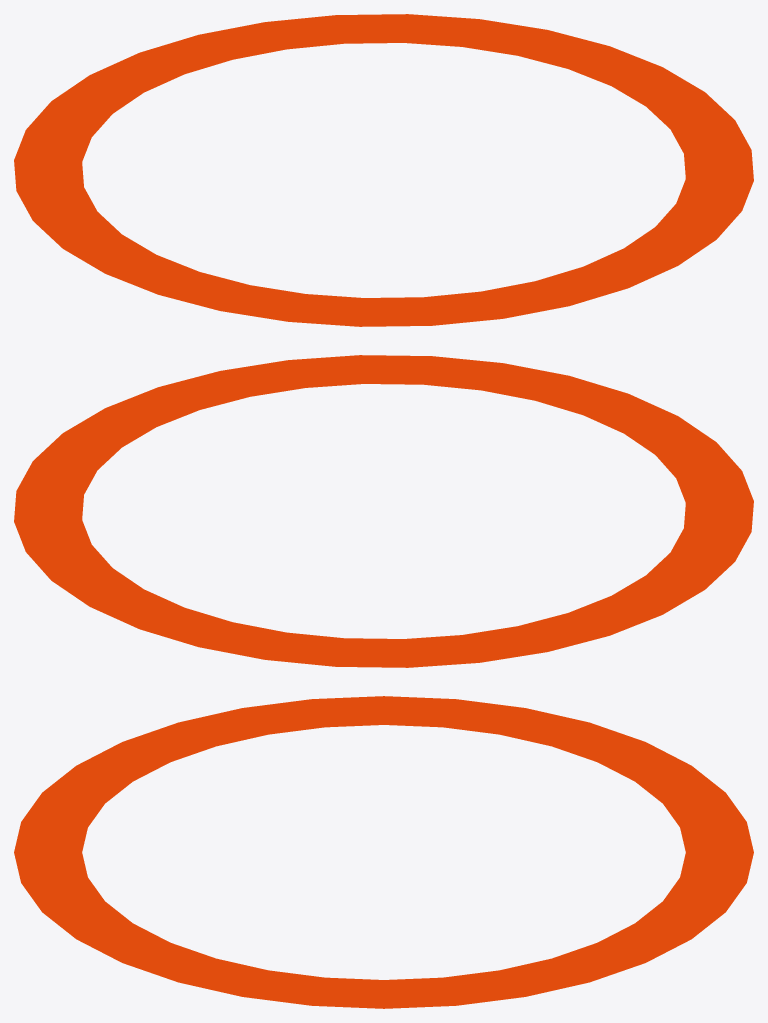
The model's file is Mining Ship Icon.fbx.
3 renders of one model, top to bottom at view 1: azimuth 30°, elevation 25°; view 2: azimuth 150°, elevation 25°; view 3: azimuth 270°, elevation 25°, orthographic.
Parts seen in each view (by area): view 1: Circle; view 2: Circle; view 3: Circle.
Part boxes in pixels (box(x1,y1,x2,y2)): Circle: box(14, 14, 753, 326); Circle: box(14, 355, 753, 667); Circle: box(14, 696, 753, 1008).
Bounding box in the file's own units: 200 × 3.26e-05 × 200.
